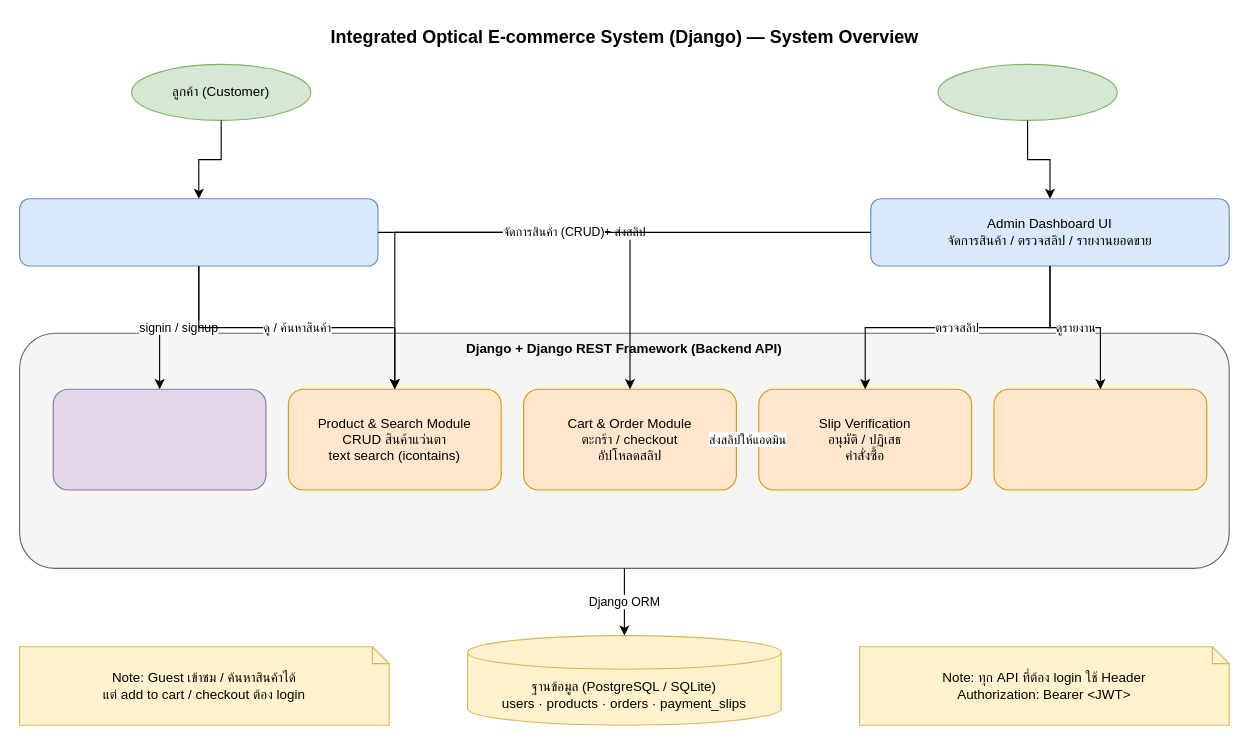
Some shapes in this 1249 by 745 pixel diagram are drawn without their labels. Each missing label, with the centre of its shape:
"Analytics Module ยอดขายรวม / สินค้าขายดี แนวโน้มการสั่งซื้อ" belongs at pixel 1100 439.
"Auth Module Signup / Signin JWT + hash password (bcrypt)" belongs at pixel 159 439.
"หน้าร้าน Storefront UI เข้าชม / ค้นหาสินค้า / ตะกร้า / checkout" belongs at pixel 198 232.
"แอดมิน (Admin)" belongs at pixel 1027 91.
